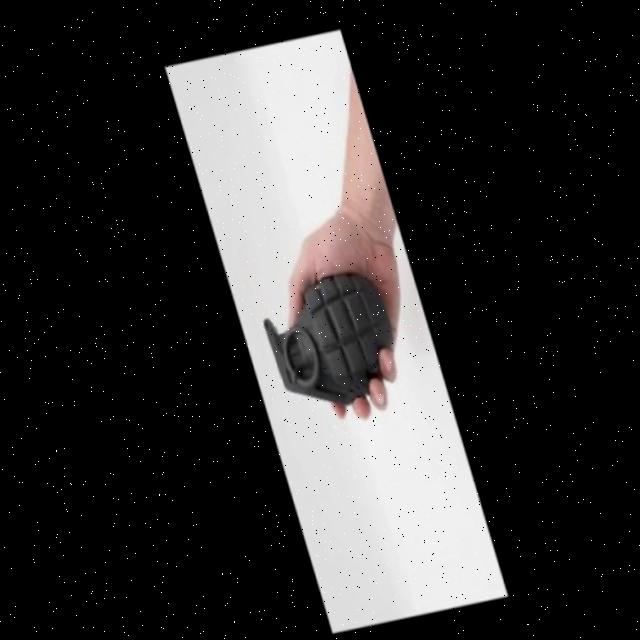grenade: (241, 253, 422, 431)
